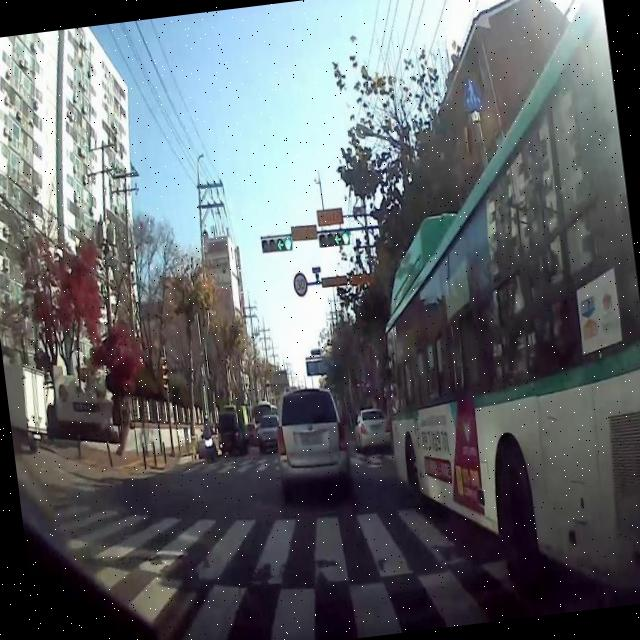crosswalk: (44, 481, 640, 640), (183, 448, 401, 472)
